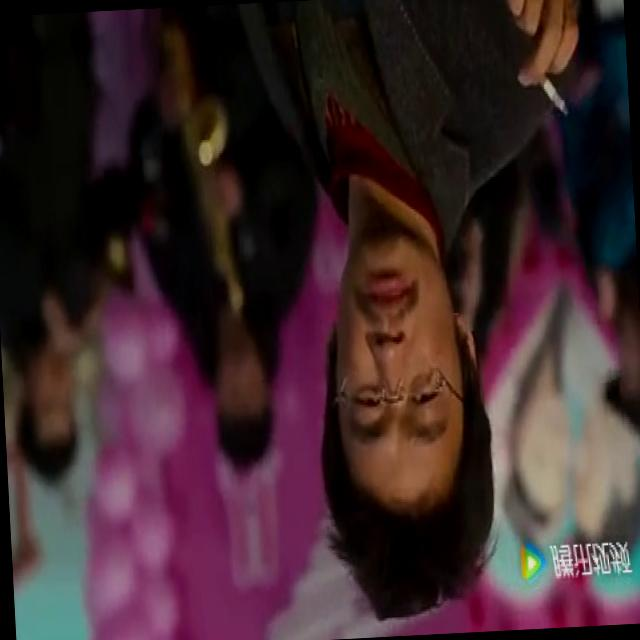cigarette: (540, 72, 570, 119)
